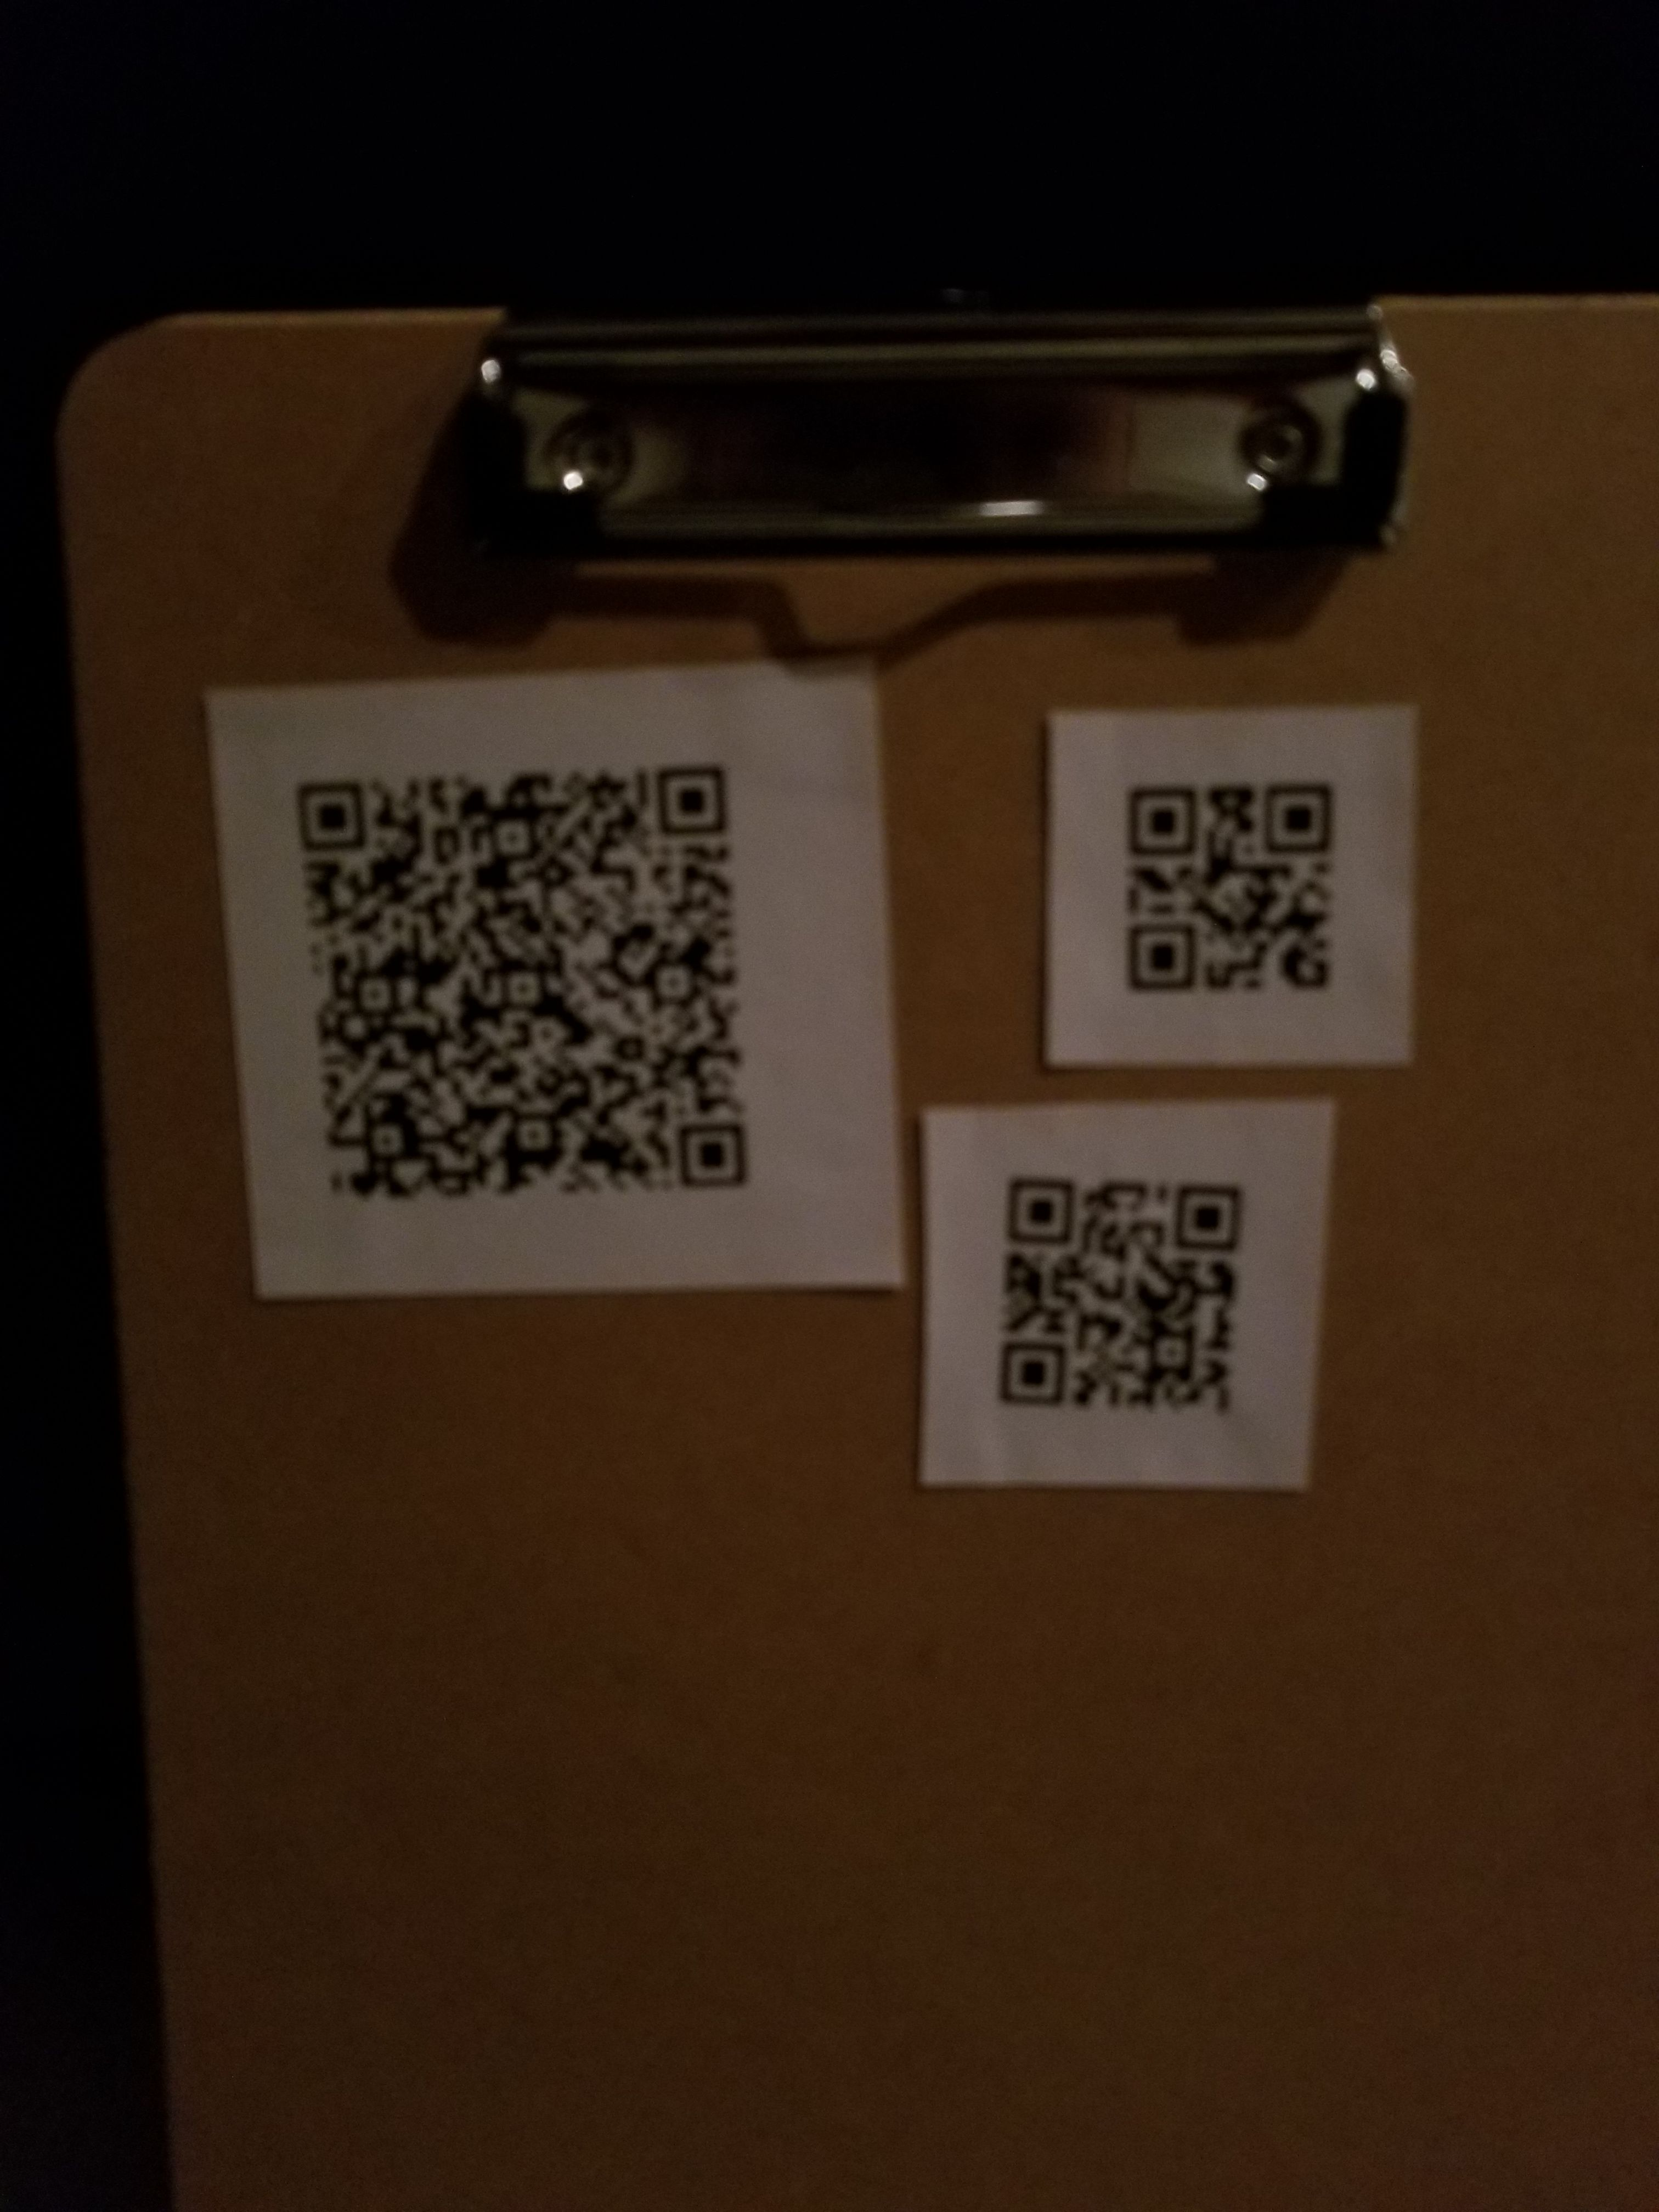QR_CODE: (239, 683, 802, 1261), (955, 1122, 1317, 1465), (1068, 726, 1382, 1042)
